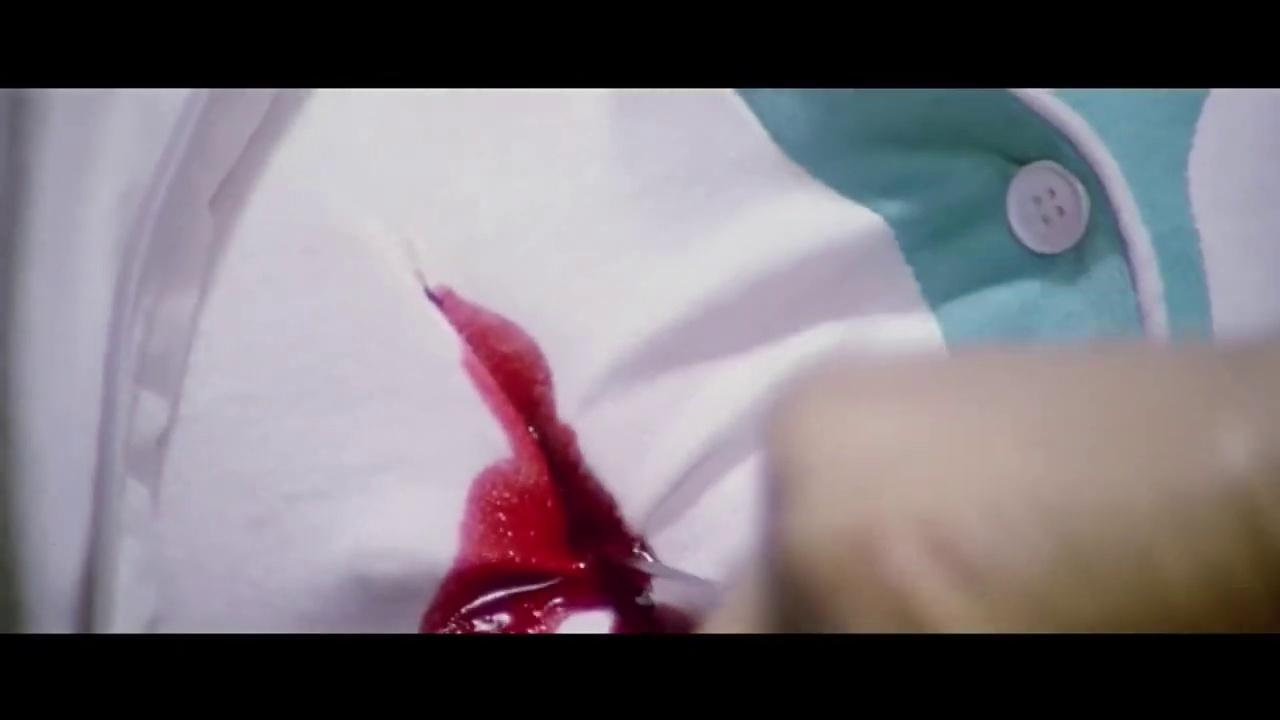Fire: (420, 285, 694, 634)
